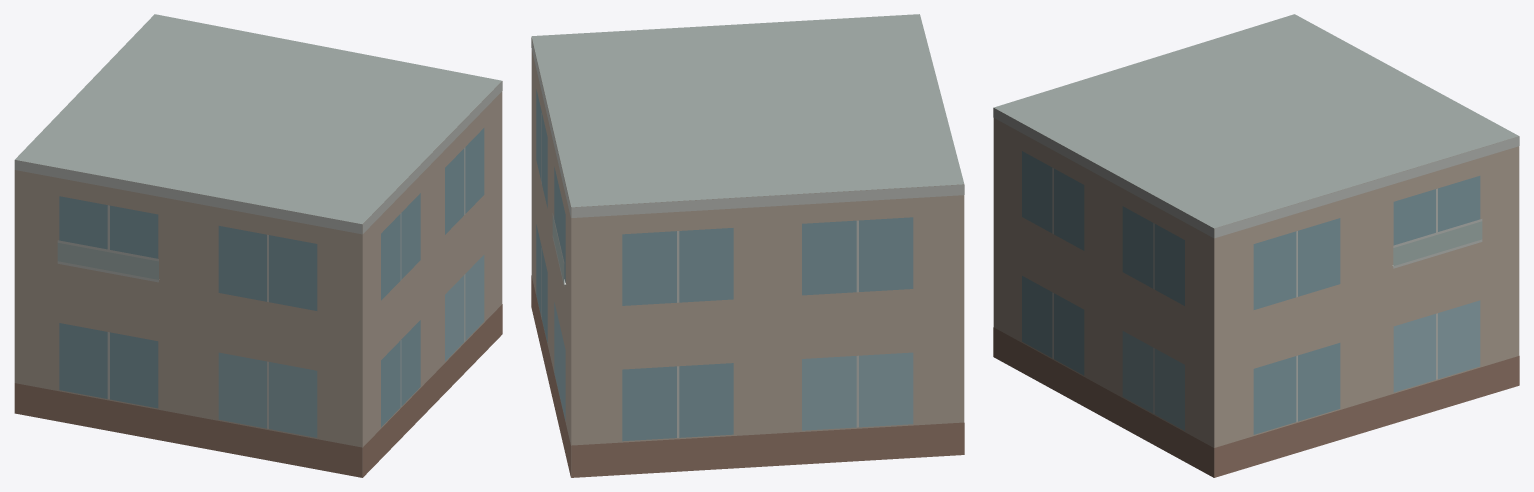
File: survey-upis-32596475.glb
The picture shows the model from 3 angles, left to right: view 1: azimuth 30°, elevation 25°; view 2: azimuth 150°, elevation 25°; view 3: azimuth 270°, elevation 25°; orthographic projection. The views are drawn at different scales.
Visible parts, largest first — view 1: survey-upis-32596475.tmp; view 2: survey-upis-32596475.tmp; view 3: survey-upis-32596475.tmp.
Part boxes in pixels (x1=…): survey-upis-32596475.tmp: x1=14, y1=14, x2=502, y2=477; survey-upis-32596475.tmp: x1=531, y1=14, x2=964, y2=477; survey-upis-32596475.tmp: x1=993, y1=14, x2=1519, y2=477.
Size of the model in its own units: 11.26 by 6.1 by 11.67.
